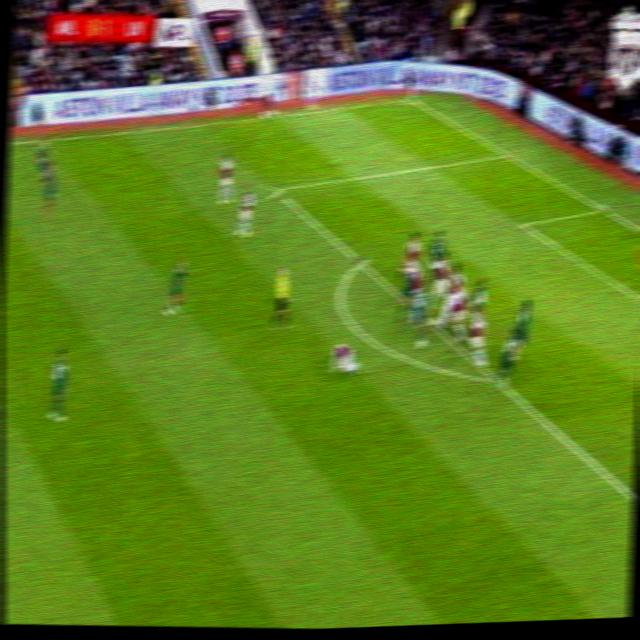bigarea_top_inner: (268, 180, 288, 199)
bigarea_top_outter: (499, 148, 515, 162)
bottom_arc_area_intersection: (488, 371, 504, 387)
corner: (401, 96, 420, 107)
smallarea_top_inner: (515, 217, 533, 233)
smallarea_top_outter: (597, 203, 612, 218)
top_arc_area_intersection: (353, 254, 371, 273)
